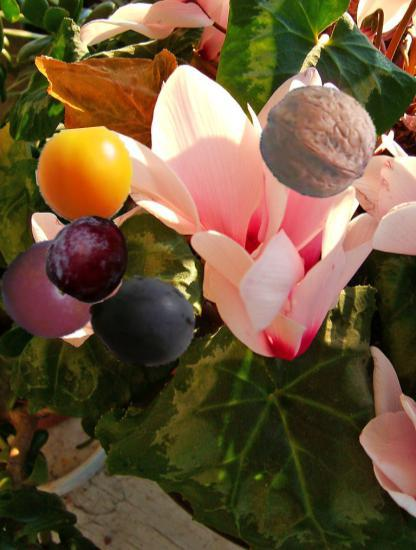Cherry: (36, 128, 133, 225)
Clementine: (55, 234, 126, 305)
Plum: (86, 266, 197, 377), (44, 214, 134, 304)
Pomegranate: (0, 232, 109, 341)
Walnut: (260, 83, 376, 199)
